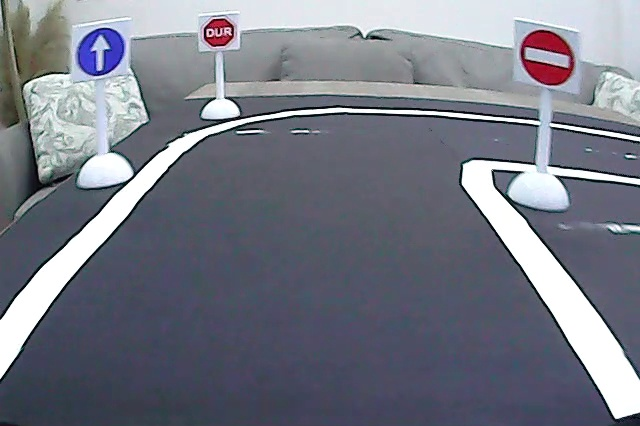do not enter: (516, 26, 576, 90)
stop sign: (200, 13, 238, 53)
